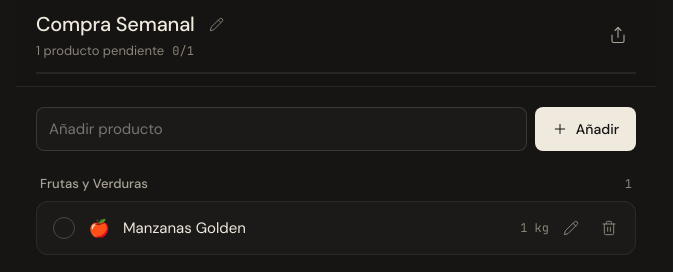
Test case: MarketActiveList Component › renders custom icon image when ingredient emoji is an image path (e.g. /icons/oil.png)
This screenshot has width=673, height=272.
Type "Ace" into the field with placeholder "Añadir producto".
click(281, 129); type("Ace")  # box [36,107,527,151]
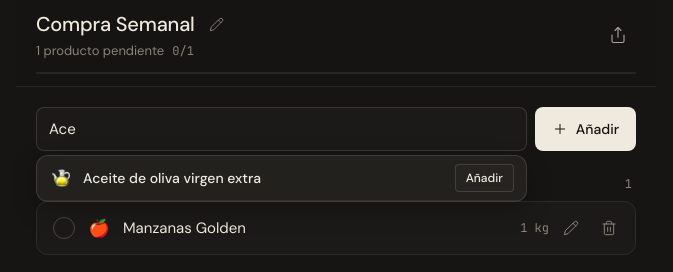
Now the element with test id "product-suggestions-dropdown" is shown, box [36,155,527,202]
Now the text "Aceite de oliva virgen extra" is shown, box [83,169,261,187]
Now the picture is shown, box [52,169,70,187]
